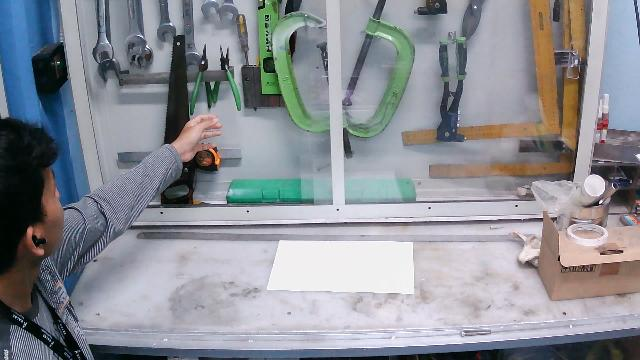tang_cucut_lancip_1: (208, 38, 245, 116)
